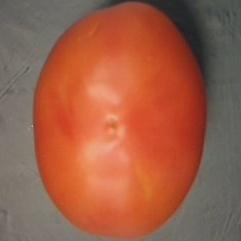unripe: (28, 1, 210, 241)
